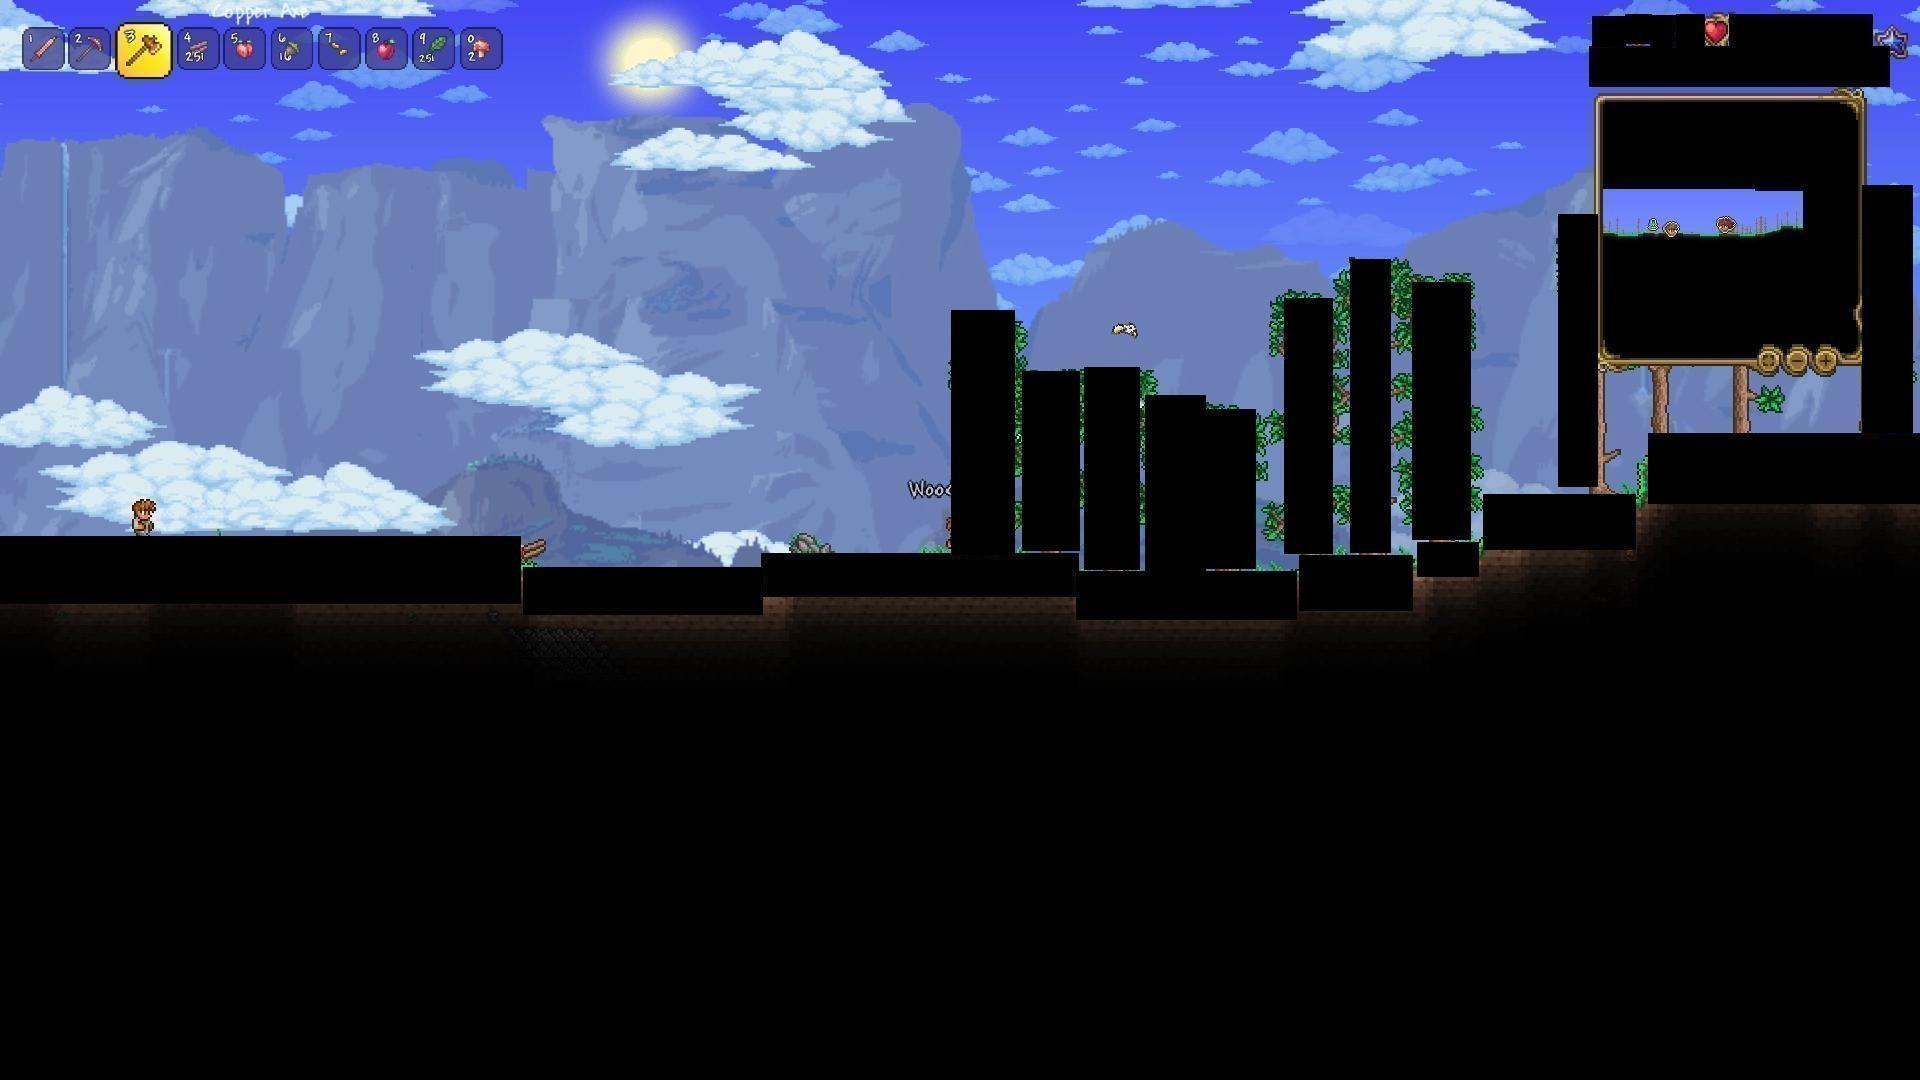heart: (1702, 17, 1733, 51)
wood: (521, 534, 551, 563), (187, 34, 218, 63)
